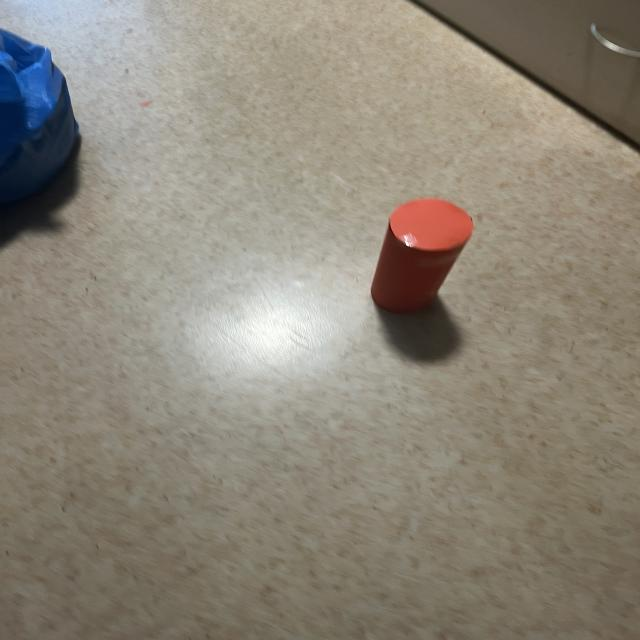przeszkoda: (371, 198, 473, 313)
